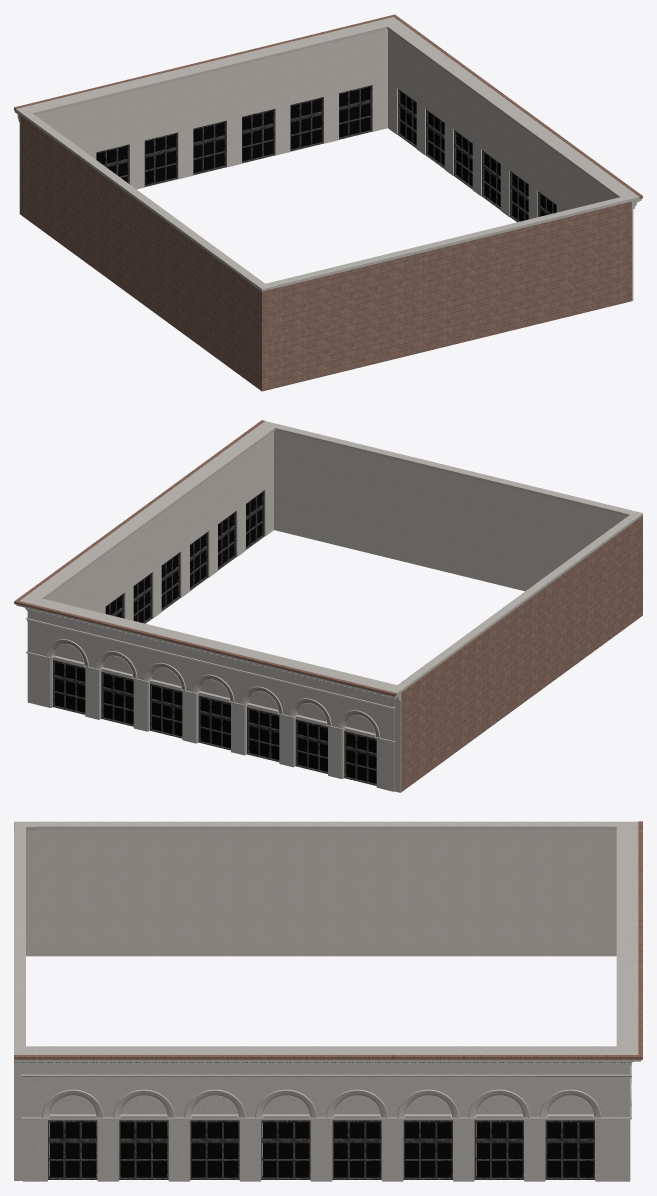
The model's file is BuildingC_Top_VarB.fbx.
3 views of the same model, one above another, from view 1: azimuth 30°, elevation 25°; view 2: azimuth 150°, elevation 25°; view 3: azimuth 270°, elevation 25° (orthographic). The views are drawn at different scales.
Visible parts, largest first — view 1: BuildingC_Top_VarB; view 2: BuildingC_Top_VarB; view 3: BuildingC_Top_VarB.
Boxes of the visible parts, x1,y1,x2,y2 form: BuildingC_Top_VarB: (14,14,642,391); BuildingC_Top_VarB: (14,420,642,792); BuildingC_Top_VarB: (14,821,642,1181).
Size of the model in its own units: 2354 by 606 by 2654.
